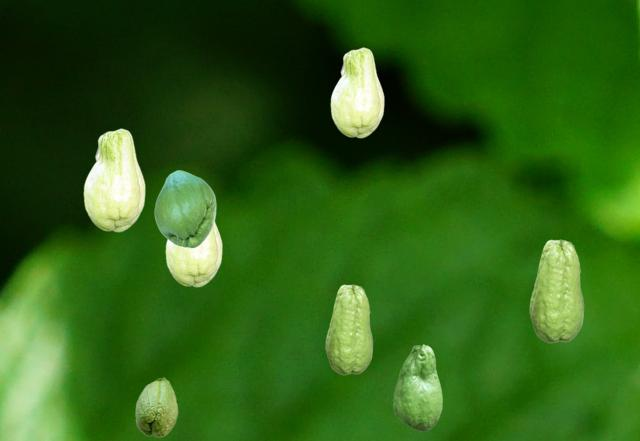sayote: (83, 128, 144, 231), (529, 239, 583, 342), (330, 47, 383, 137), (154, 170, 215, 247), (325, 284, 372, 374), (393, 344, 441, 430), (165, 222, 221, 286), (135, 377, 177, 436)
